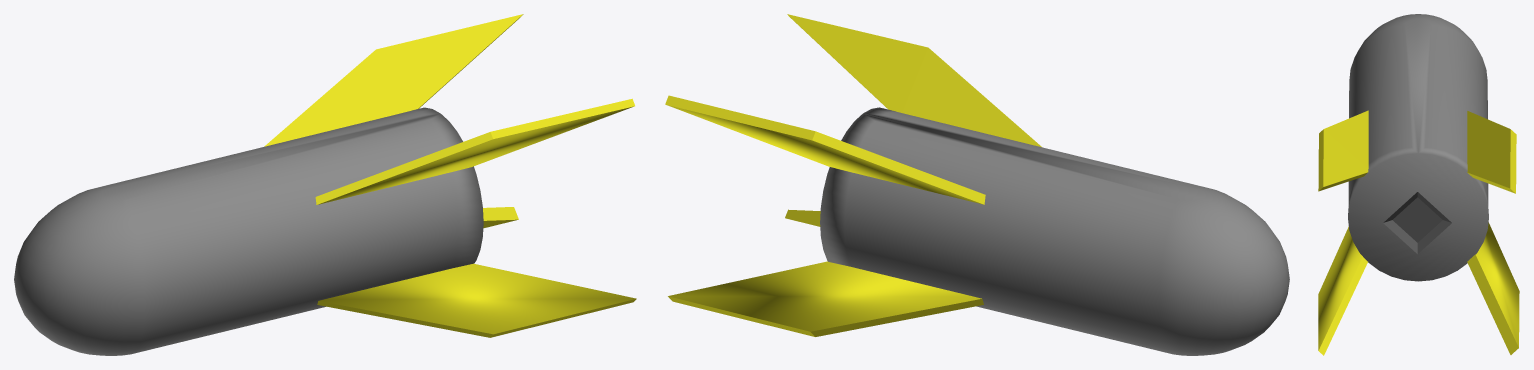
The model's file is Rocket.fbx.
3 renders of one model, left to right at view 1: azimuth 30°, elevation 25°; view 2: azimuth 150°, elevation 25°; view 3: azimuth 270°, elevation 25°, orthographic. The views are drawn at different scales.
Visible parts, largest first — view 1: Cube.001; view 2: Cube.001; view 3: Cube.001.
Boxes of the visible parts, x1=… form: Cube.001: x1=14, y1=14, x2=636, y2=355; Cube.001: x1=665, y1=14, x2=1289, y2=355; Cube.001: x1=1318, y1=14, x2=1519, y2=355.
Bounding box in the file's own units: 1128 × 399 × 429.
